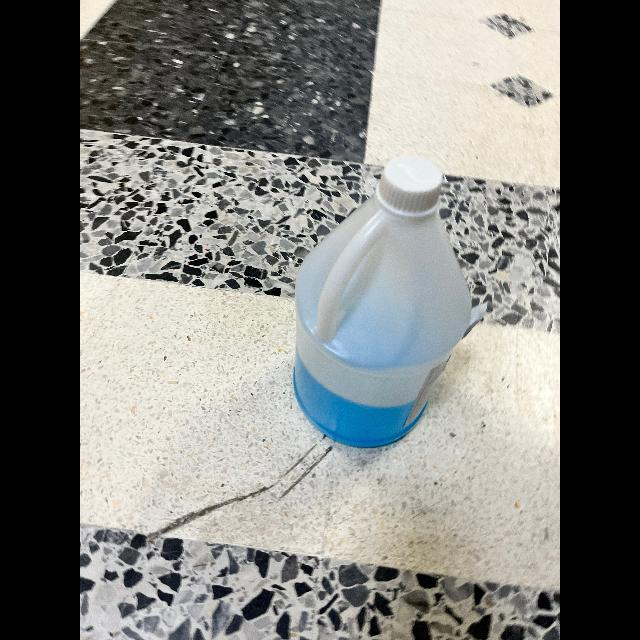chemical_plastic_gallon: (282, 146, 482, 460)
